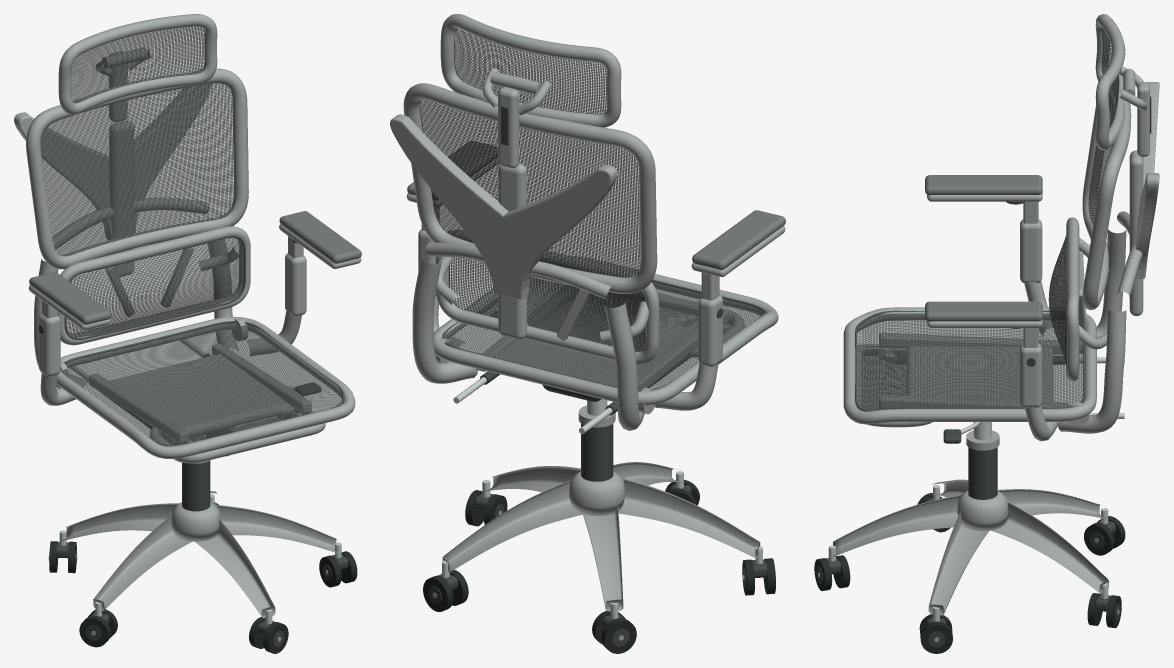
3 renders of one model, left to right at view 1: azimuth 30°, elevation 25°; view 2: azimuth 150°, elevation 25°; view 3: azimuth 270°, elevation 25°, orthographic. The views are drawn at different scales.
Parts seen in each view (by area): view 1: Upper back mesh / woven membrane, Waterfall mesh seat 500 × 500 mm / woven membrane, Lumbar mesh 460 mm / woven membrane, Seat underside bridge, Upper back mesh / moulded perimeter, Waterfall mesh seat 500 × 500 mm / moulded perimeter, Sculpted rear Y support, Curved headrest 370 mm / woven membrane, Curved headrest 370 mm / moulded perimeter, Lumbar mesh 460 mm / moulded perimeter, Soft 6D arm pad (×2), Back height spine (+20 smaller); view 2: Upper back mesh / woven membrane, Waterfall mesh seat 500 × 500 mm / woven membrane, Sculpted rear Y support, Upper back mesh / moulded perimeter, Waterfall mesh seat 500 × 500 mm / moulded perimeter, Curved headrest 370 mm / woven membrane, Lumbar mesh 460 mm / woven membrane, Backrest lower hinge carrier (×2), Curved headrest 370 mm / moulded perimeter, Lumbar mesh 460 mm / moulded perimeter, Seat underside bridge, Five-star base / spoke 2 (+20 smaller); view 3: Waterfall mesh seat 500 × 500 mm / woven membrane, Seat underside bridge, Waterfall mesh seat 500 × 500 mm / moulded perimeter, Upper back mesh / moulded perimeter, Soft 6D arm pad (×2), Backrest lower hinge carrier (×2), Seat side carrier (×2), Curved headrest 370 mm / moulded perimeter, Five-star base / spoke 4, Five-star base / spoke 1, Arm telescopic outer column (×2), Five-star base / spoke 5 (+17 smaller).
Part boxes in pixels (bbox=[...]): Upper back mesh / woven membrane: bbox=[40, 83, 236, 256]; Waterfall mesh seat 500 × 500 mm / woven membrane: bbox=[62, 323, 343, 444]; Lumbar mesh 460 mm / woven membrane: bbox=[66, 237, 243, 337]; Seat underside bridge: bbox=[110, 354, 290, 435]; Upper back mesh / moulded perimeter: bbox=[26, 68, 248, 269]; Waterfall mesh seat 500 × 500 mm / moulded perimeter: bbox=[57, 316, 355, 458]; Sculpted rear Y support: bbox=[14, 68, 212, 239]; Curved headrest 370 mm / woven membrane: bbox=[71, 26, 206, 103]; Curved headrest 370 mm / moulded perimeter: bbox=[58, 14, 217, 114]; Lumbar mesh 460 mm / moulded perimeter: bbox=[57, 226, 250, 345]; Soft 6D arm pad (×2): bbox=[29, 211, 361, 324]; Back height spine: bbox=[109, 121, 134, 276]; Upper back mesh / woven membrane: bbox=[419, 100, 640, 277]; Waterfall mesh seat 500 × 500 mm / woven membrane: bbox=[444, 277, 763, 389]; Sculpted rear Y support: bbox=[390, 114, 617, 299]; Upper back mesh / moulded perimeter: bbox=[403, 83, 657, 293]; Waterfall mesh seat 500 × 500 mm / moulded perimeter: bbox=[433, 256, 778, 405]; Curved headrest 370 mm / woven membrane: bbox=[454, 28, 607, 114]; Lumbar mesh 460 mm / woven membrane: bbox=[449, 257, 645, 351]; Backrest lower hinge carrier (×2): bbox=[412, 258, 644, 430]; Curved headrest 370 mm / moulded perimeter: bbox=[440, 14, 621, 127]; Lumbar mesh 460 mm / moulded perimeter: bbox=[435, 229, 659, 364]; Seat underside bridge: bbox=[496, 300, 693, 386]; Five-star base / spoke 2: bbox=[618, 478, 760, 558]; Waterfall mesh seat 500 × 500 mm / woven membrane: bbox=[857, 313, 1083, 410]; Seat underside bridge: bbox=[906, 346, 1053, 401]; Waterfall mesh seat 500 × 500 mm / moulded perimeter: bbox=[843, 307, 1096, 424]; Upper back mesh / moulded perimeter: bbox=[1082, 74, 1131, 310]; Soft 6D arm pad (×2): bbox=[925, 175, 1042, 321]; Backrest lower hinge carrier (×2): bbox=[1058, 229, 1126, 433]; Seat side carrier (×2): bbox=[879, 332, 1068, 409]; Curved headrest 370 mm / moulded perimeter: bbox=[1095, 14, 1125, 150]; Five-star base / spoke 4: bbox=[991, 501, 1108, 593]; Five-star base / spoke 1: bbox=[833, 494, 961, 556]; Arm telescopic outer column (×2): bbox=[1020, 219, 1042, 407]; Five-star base / spoke 5: bbox=[928, 509, 990, 615].
Size of the model in its own units: 0.66 by 1.18 by 0.681.
Materials: 8 (1 with a texture image).
